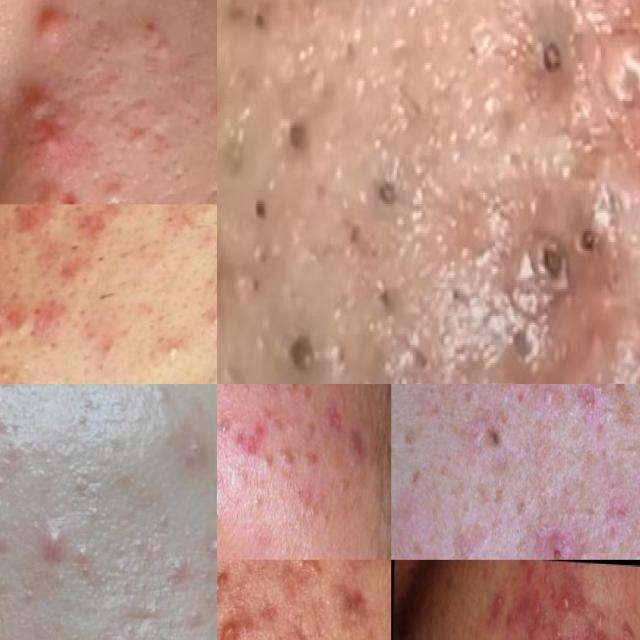acne_scars: (332, 574, 373, 640), (236, 418, 274, 465)
comedone: (38, 518, 70, 582), (172, 437, 217, 479), (530, 34, 568, 82), (94, 161, 134, 204), (534, 240, 564, 286), (285, 122, 311, 172), (120, 119, 151, 156), (90, 332, 125, 364), (147, 384, 183, 415), (291, 330, 315, 376), (72, 539, 101, 572), (170, 0, 204, 27), (250, 193, 272, 234), (6, 313, 34, 343), (0, 352, 25, 384), (277, 413, 306, 440), (217, 403, 237, 442), (0, 384, 30, 404), (378, 178, 401, 204), (199, 534, 217, 565), (0, 323, 14, 355), (280, 384, 299, 403)
folliculitis: (142, 318, 191, 376), (204, 330, 217, 366)
papule: (18, 1, 76, 63), (3, 79, 62, 132), (546, 496, 584, 560), (565, 384, 620, 419), (217, 603, 240, 640)
pustule: (558, 582, 580, 620), (540, 568, 554, 598), (494, 587, 505, 612)
sebo-crystan-conglo: (18, 158, 72, 204), (336, 415, 376, 468), (298, 490, 342, 527), (270, 436, 296, 468), (217, 491, 230, 533)
